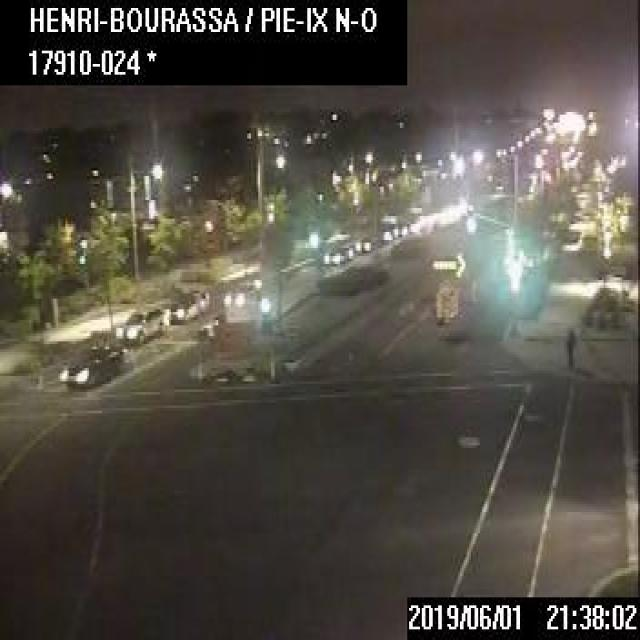construction: (194, 306, 272, 382), (431, 246, 465, 326), (433, 292, 441, 322), (448, 289, 455, 316), (441, 298, 448, 323)
pedestrian: (562, 323, 574, 365)
vehicle: (56, 339, 126, 389), (114, 305, 168, 341), (220, 272, 265, 309), (162, 287, 208, 322), (322, 243, 345, 264), (378, 213, 396, 236), (355, 233, 369, 251), (341, 240, 354, 256)
